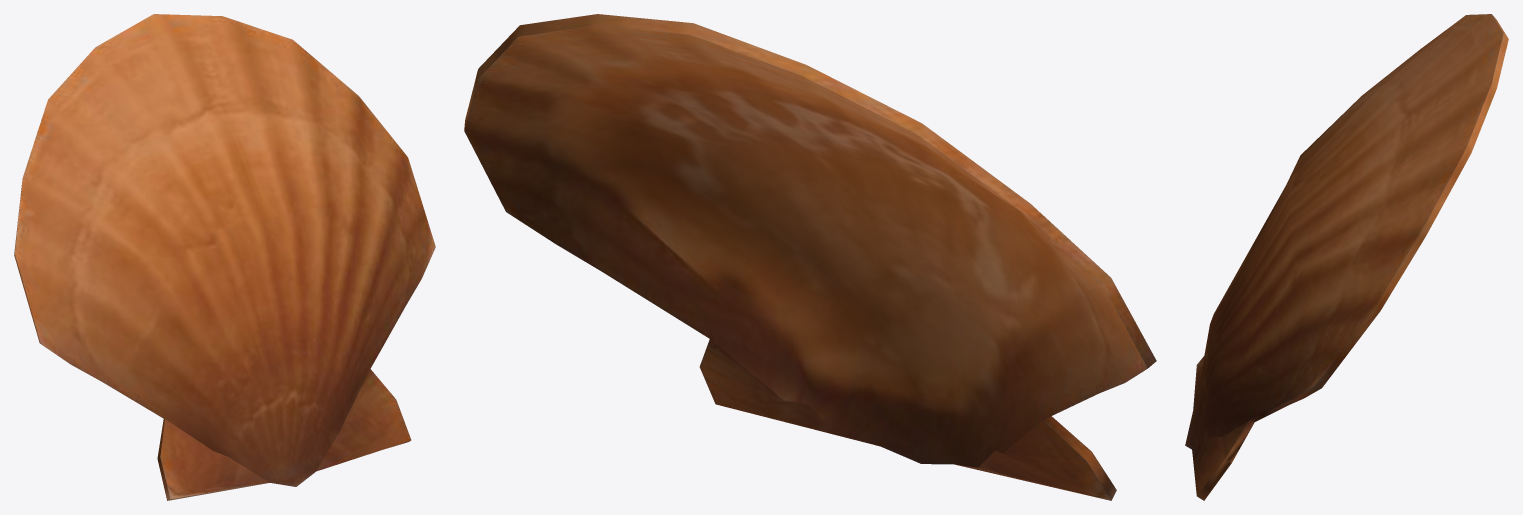
File: concha.glb
The picture shows the model from 3 angles, left to right: view 1: azimuth 30°, elevation 25°; view 2: azimuth 150°, elevation 25°; view 3: azimuth 270°, elevation 25°; orthographic projection. The views are drawn at different scales.
Visible parts, largest first — view 1: scoica_01_07 - Default_0; view 2: scoica_01_07 - Default_0; view 3: scoica_01_07 - Default_0.
Boxes of the visible parts, left/top/right/bottom form: scoica_01_07 - Default_0: left=14, top=14, right=435, bottom=500; scoica_01_07 - Default_0: left=464, top=14, right=1156, bottom=500; scoica_01_07 - Default_0: left=1185, top=14, right=1508, bottom=500.
Bounding box in the file's own units: 1.12 × 1 × 0.7094.
Materials: 1 (1 with a texture image).
